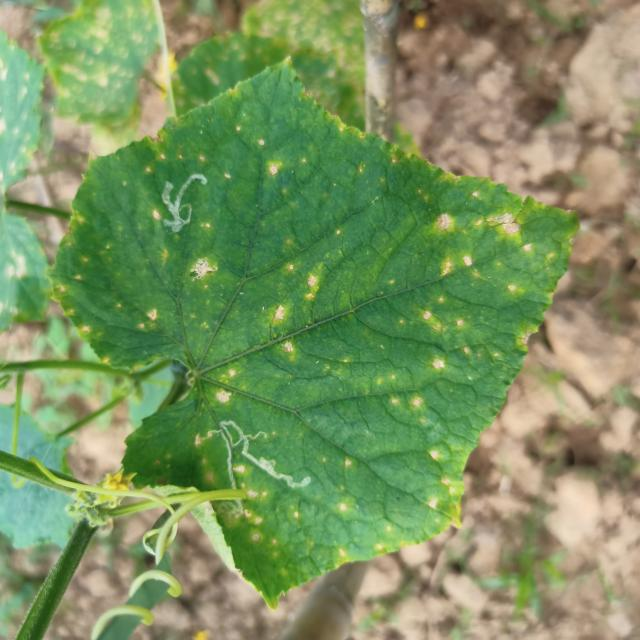disease_cucumber: (359, 149, 552, 526), (68, 118, 290, 342), (191, 363, 376, 584), (258, 237, 339, 371)
